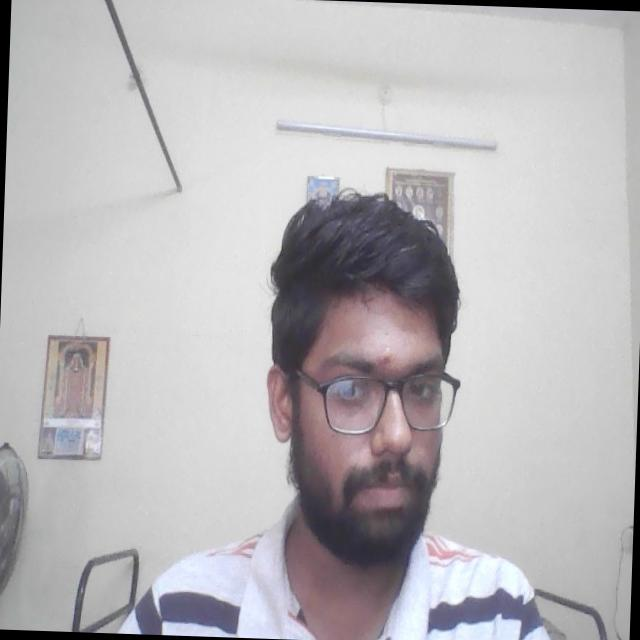Focused: (309, 304, 464, 534)
